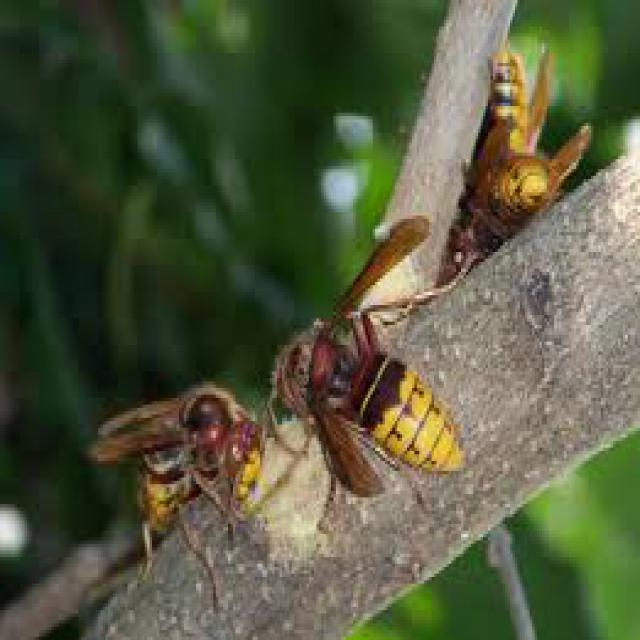Vespa Crabro: (249, 203, 479, 515), (80, 353, 286, 606), (457, 39, 587, 254)
